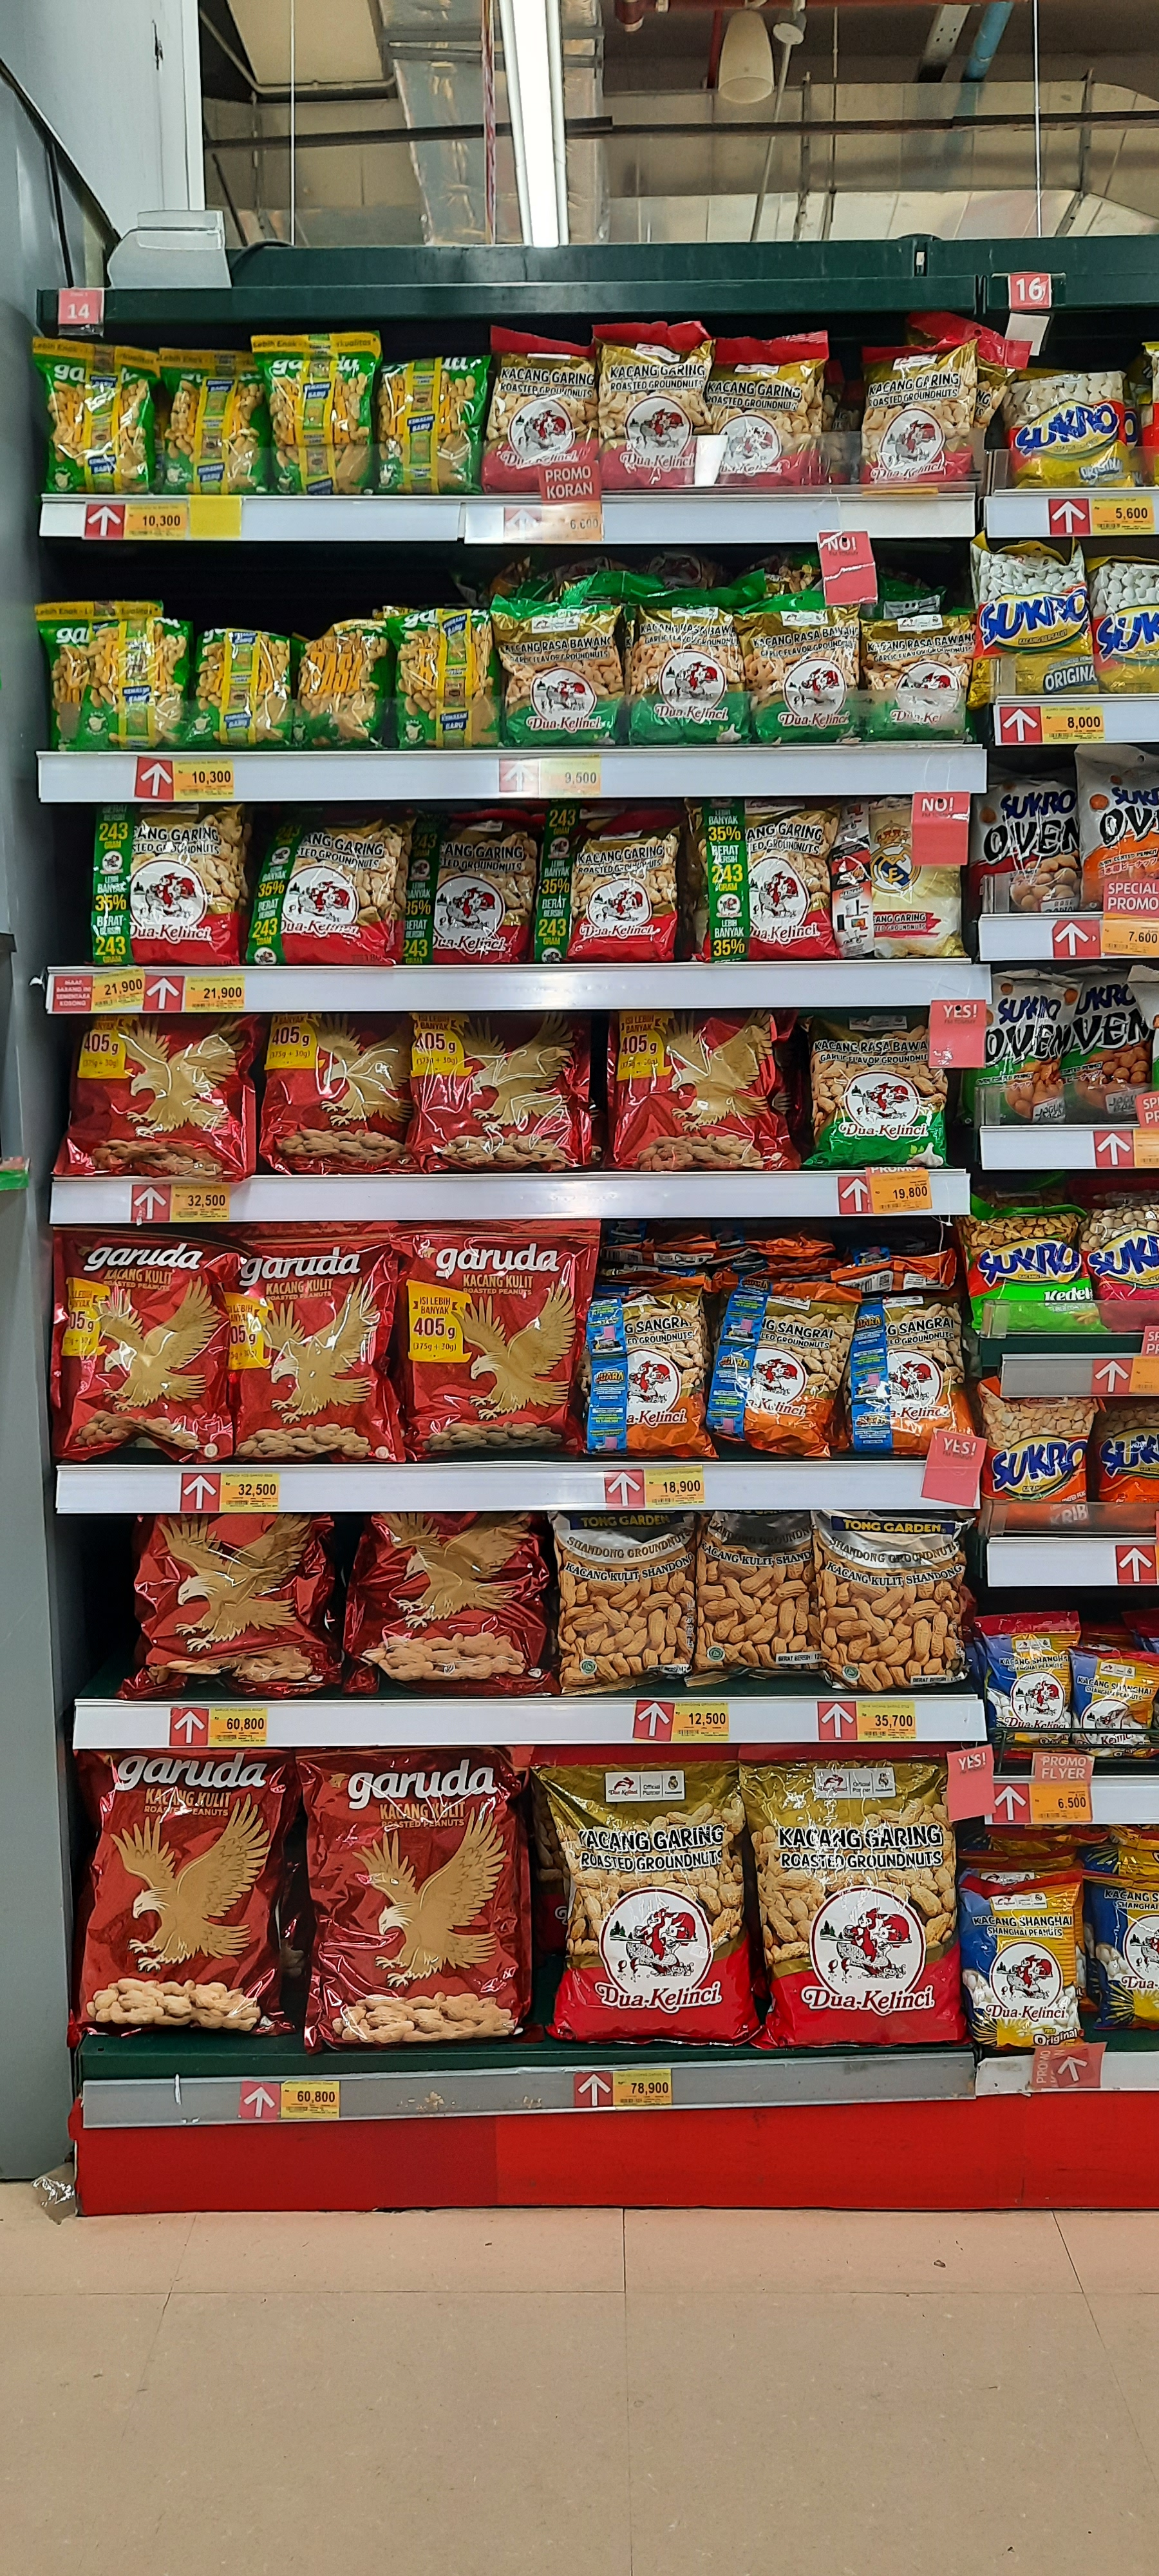90101112101100: (305, 1746, 532, 2042), (79, 1750, 295, 2034), (399, 1219, 591, 1457), (54, 1230, 233, 1460), (230, 1224, 401, 1460)
90101112202100: (263, 335, 381, 495), (44, 347, 158, 493), (379, 355, 491, 495), (384, 608, 494, 749), (159, 352, 266, 495), (87, 616, 190, 751), (291, 619, 387, 749), (190, 629, 289, 749)
DuaKelinciKacangGaring: (92, 802, 245, 963), (248, 813, 405, 966), (534, 798, 678, 963), (535, 800, 680, 963), (693, 800, 836, 963), (402, 812, 538, 964)
DuaKelinciKacangGaring60g: (708, 337, 829, 491), (860, 340, 980, 485), (489, 345, 598, 493), (601, 337, 703, 486)
DuaKelinciKacangGaring750g: (737, 1746, 965, 2047), (540, 1746, 758, 2042)
DuaKelinciKacangRasaBawang: (806, 1014, 949, 1170), (492, 598, 621, 748), (624, 593, 745, 746), (745, 595, 862, 743), (859, 603, 973, 743)
DuaKelinciKacangSangrai: (708, 1285, 847, 1457), (584, 1276, 712, 1457), (842, 1295, 972, 1460)
DuaKelinciKacangShangHaiOriginal: (962, 1874, 1082, 2050), (980, 1617, 1075, 1751)
DuaKelinciKacangSukroOriginal: (970, 536, 1098, 695), (1005, 366, 1129, 488)
DuaKelinciSukroKribo: (977, 1378, 1093, 1531)
DuaKelinciSukroOvenRasaBawang: (977, 770, 1075, 915)
DuaKelinciSukroOvenRasaJagungBakar: (977, 977, 1082, 1124)
DuaKelinciSukroRasaKedelai: (957, 1207, 1102, 1332)
TongGardenKacangKulitShandong: (818, 1506, 970, 1692), (550, 1510, 694, 1694), (696, 1511, 816, 1676)
